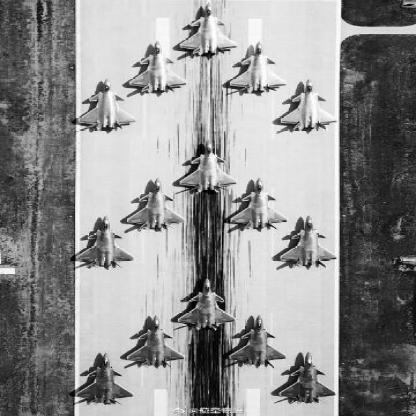J20: (230, 178, 290, 233), (76, 216, 136, 271), (78, 79, 139, 133), (75, 353, 136, 407), (179, 3, 239, 57), (180, 141, 240, 195), (127, 178, 187, 232), (178, 278, 238, 332), (127, 316, 187, 370), (229, 315, 289, 369), (280, 79, 339, 133), (129, 41, 188, 95), (280, 215, 339, 269), (279, 352, 338, 406), (230, 42, 288, 95)
